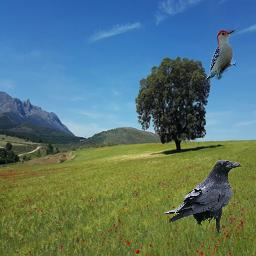Crow: (163, 160, 241, 236)
Woodpecker: (205, 29, 236, 81)
